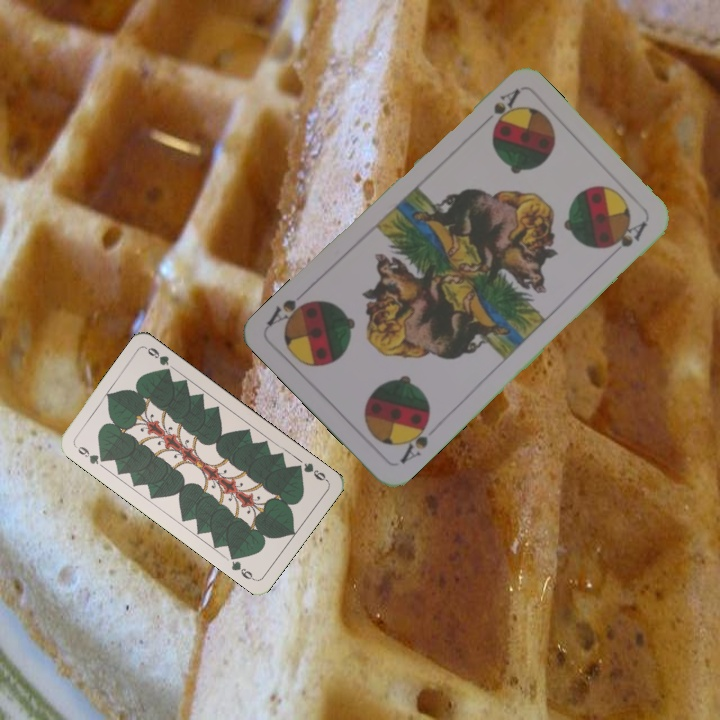G9: (291, 458, 330, 484), (71, 441, 109, 467)
SA: (475, 85, 522, 131), (395, 414, 432, 467)
